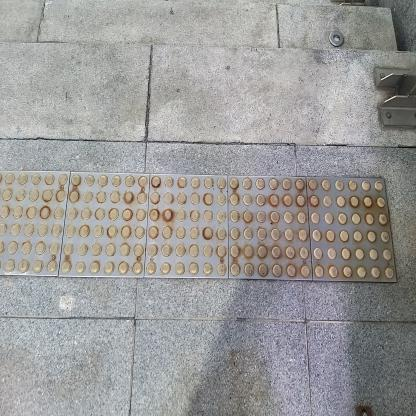podotacti: (0, 153, 404, 299)
